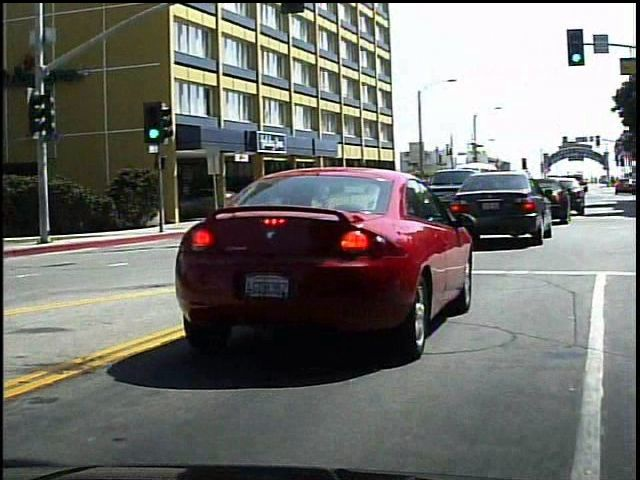person: (274, 182, 292, 219)
